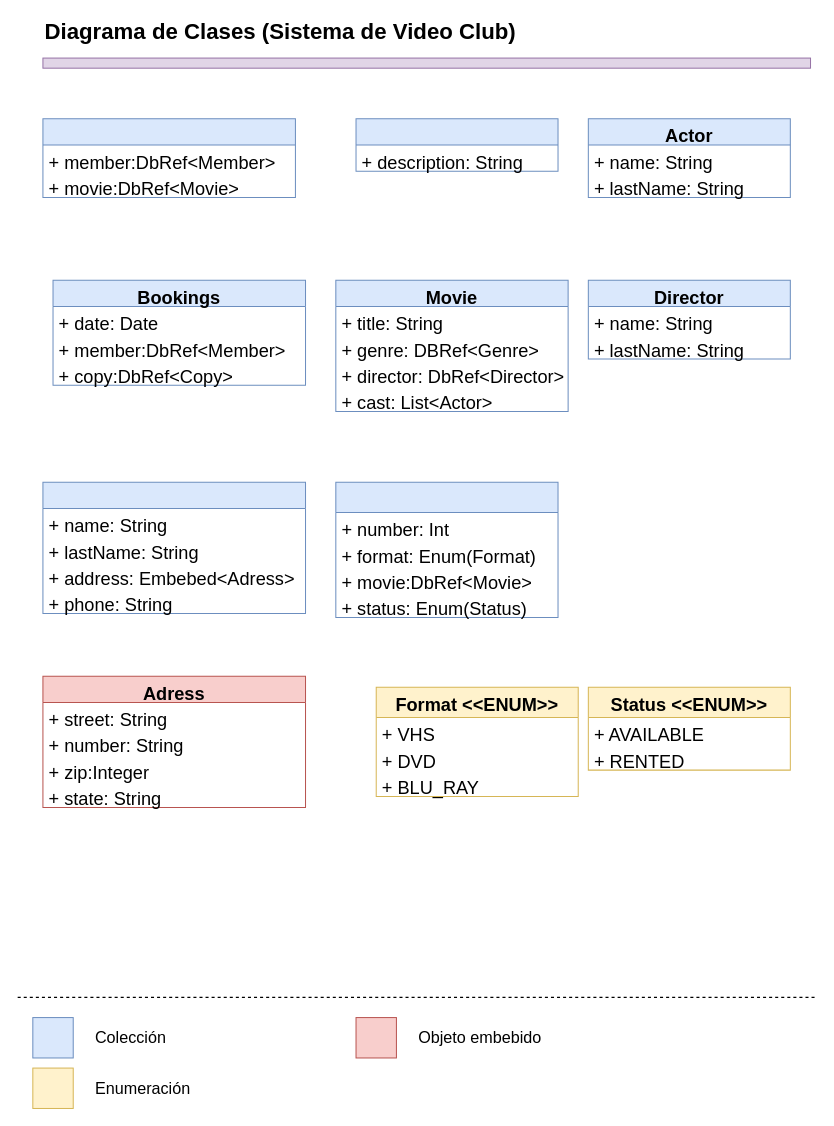
The diagram is 834 pixels wide and 1126 high, and some of its shapes have lost their labels. The shapes that lost their labels are listed below. From the top down, each one's box as (x1, y1, x2, y2) in pixels, then its label:
(42, 118, 295, 197): Await list
(355, 118, 558, 171): Genre
(42, 481, 306, 614): Member
(335, 481, 558, 618): Copy
